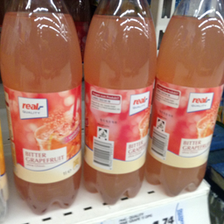soda: (1, 1, 84, 212), (83, 1, 158, 205), (146, 1, 224, 197)
